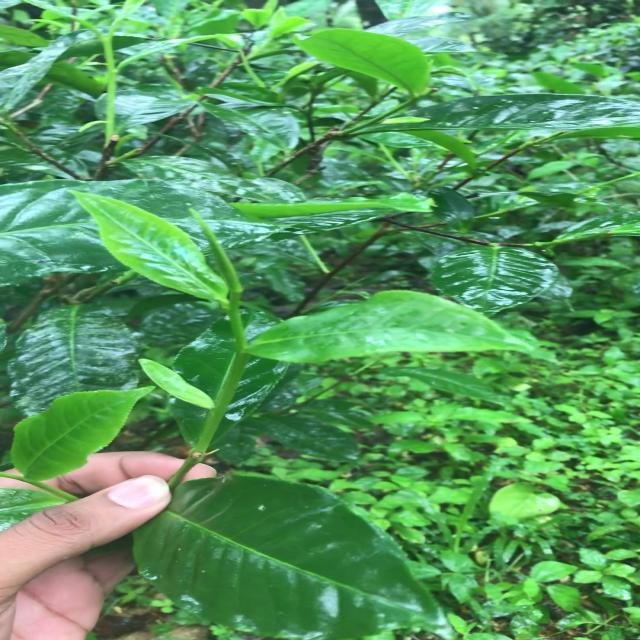Stem: (237, 345, 249, 359)
